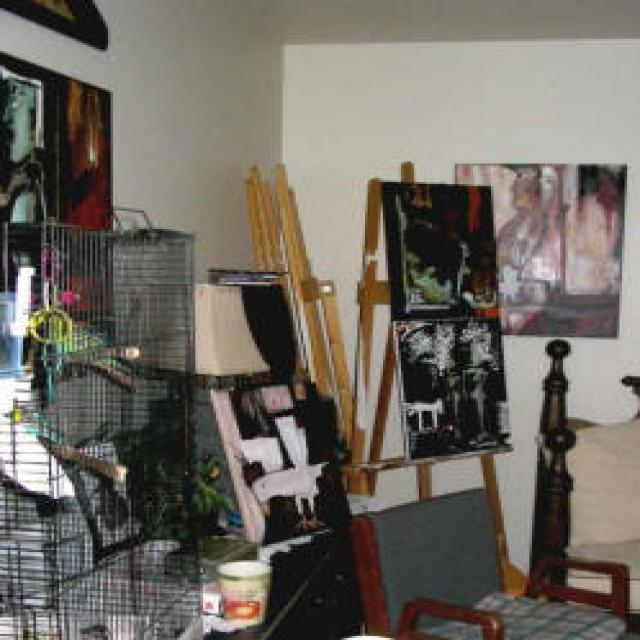armchair occluded: (350, 485, 632, 638)
ceiling beam: (172, 0, 635, 43)
easel: (337, 176, 527, 591)
floor -X: (129, 558, 635, 638)
paper cup: (213, 558, 270, 626)
picture crop: (380, 180, 509, 458), (0, 50, 111, 366), (211, 378, 352, 548)
picture of flag: (452, 164, 625, 335)
sofa cushion: (527, 337, 635, 638)
wall clock: (283, 39, 635, 564)
